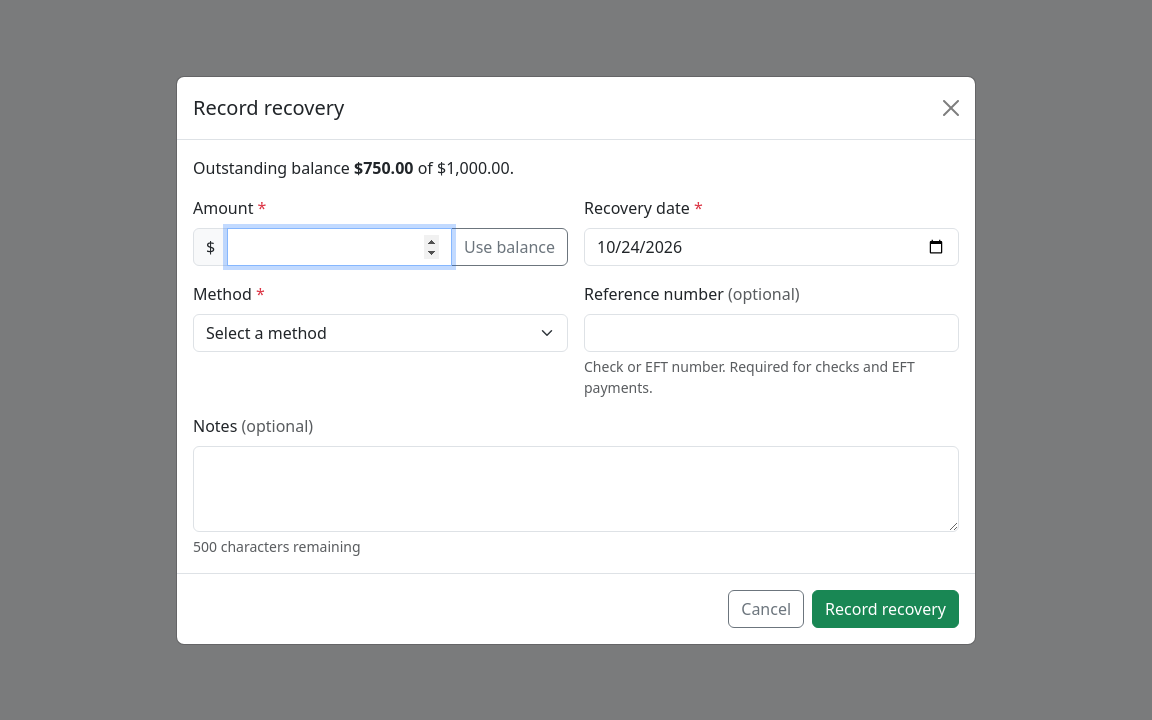
RecordRecoveryDialogComponent › the form › shows what is missing and records nothing when Record recovery is pressed on an empty form
Click the button "Record recovery" at (886, 608), box x1=812 y1=590 x2=959 y2=628
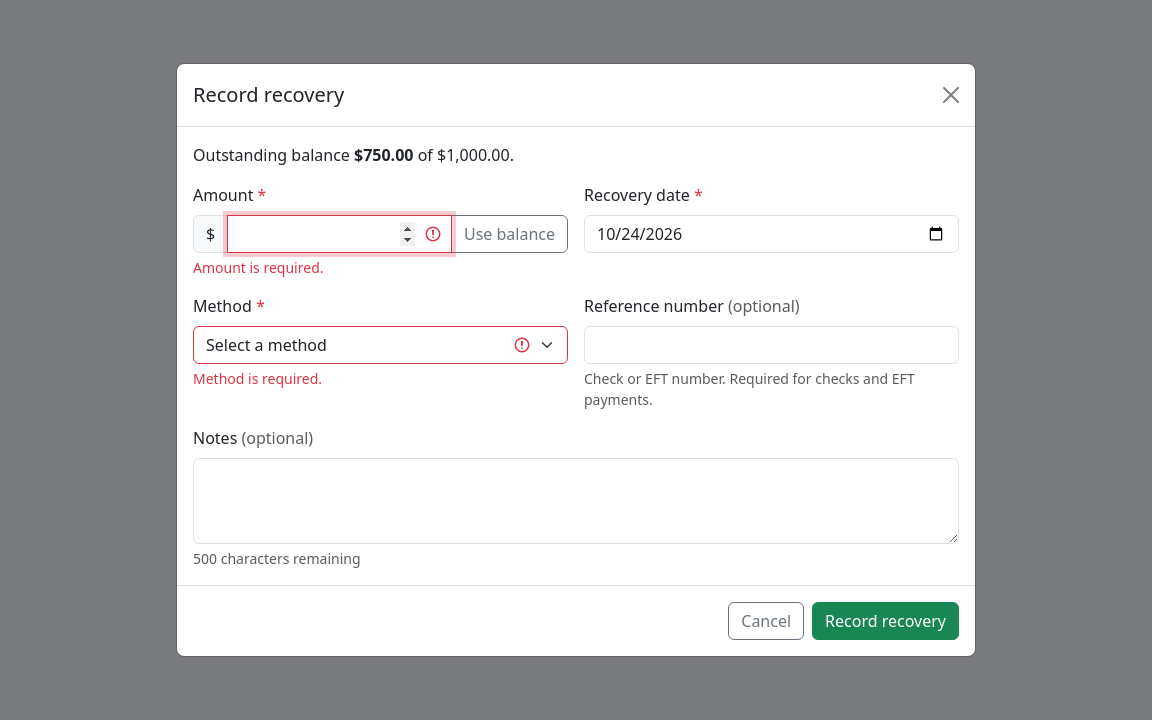
Now the text "Amount is required." is shown, box x1=193 y1=258 x2=324 y2=277
Now the text "Method is required." is shown, box x1=193 y1=369 x2=322 y2=388
